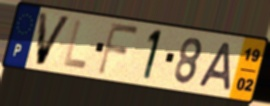1: (141, 27, 165, 84)
8: (173, 36, 204, 86)
A: (196, 40, 233, 92)
F: (95, 20, 141, 78)
L: (61, 19, 89, 72)
V: (35, 10, 74, 68)
